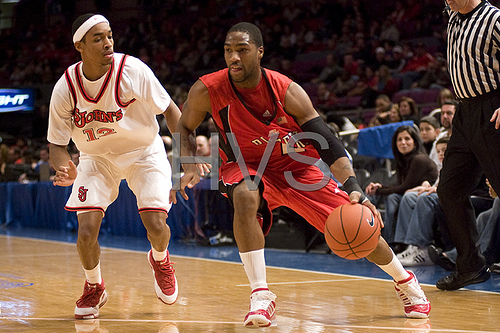basketball: (324, 203, 380, 259)
